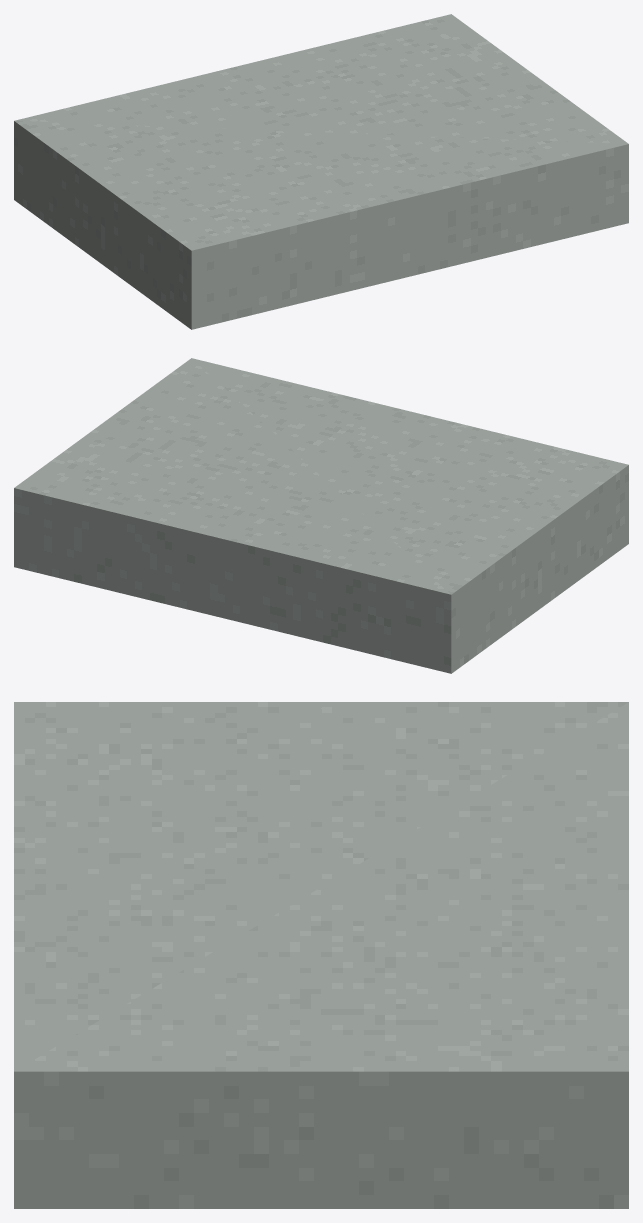
The model's file is laptop_hard_case.glb.
The picture shows the model from 3 angles, top to bottom: view 1: azimuth 30°, elevation 25°; view 2: azimuth 150°, elevation 25°; view 3: azimuth 270°, elevation 25°; orthographic projection. The views are drawn at different scales.
Visible parts, largest first — view 1: block_fitted carrying shell; view 2: block_fitted carrying shell; view 3: block_fitted carrying shell.
Boxes of the visible parts, box(x1,y1,x2,y2) form: block_fitted carrying shell: box(14, 14, 628, 329); block_fitted carrying shell: box(14, 358, 628, 673); block_fitted carrying shell: box(14, 702, 628, 1208).
Size of the model in its own units: 0.55 by 0.0951 by 0.3867.
1 material, 1 textured.
